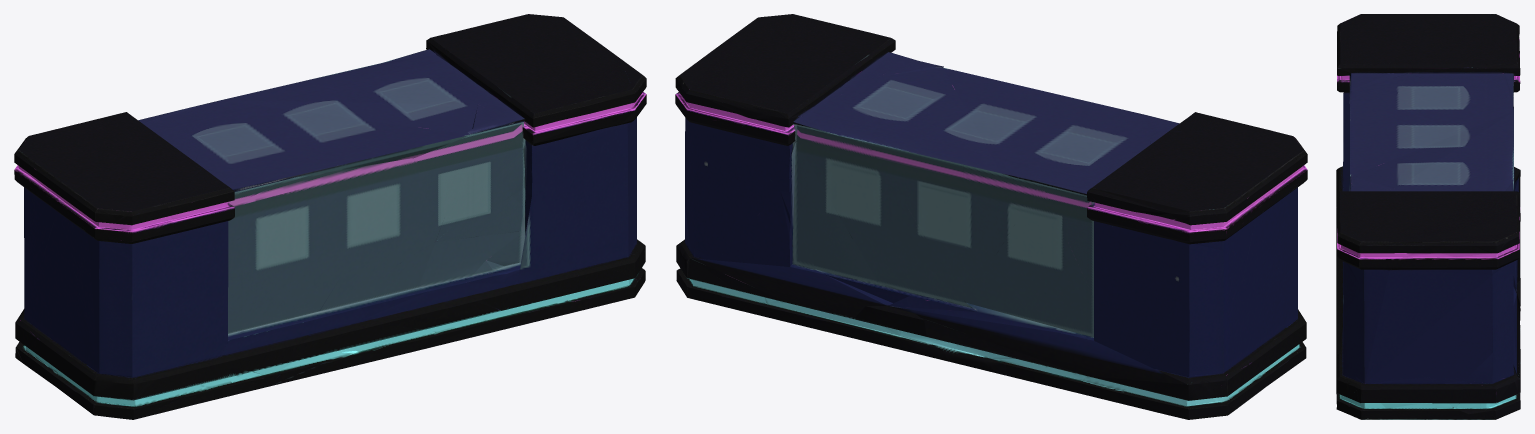
File: mostrador-tienda.glb
3 renders of one model, left to right at view 1: azimuth 30°, elevation 25°; view 2: azimuth 150°, elevation 25°; view 3: azimuth 270°, elevation 25°, orthographic. The views are drawn at different scales.
Parts seen in each view (by area): view 1: Mesh_0; view 2: Mesh_0; view 3: Mesh_0.
Boxes of the visible parts, left/top/right/bottom form: Mesh_0: left=14, top=14, right=646, bottom=419; Mesh_0: left=675, top=14, right=1307, bottom=419; Mesh_0: left=1336, top=14, right=1520, bottom=419.
Size of the model in its own units: 1.9 by 0.6828 by 0.6433.
Materials: 1 (1 with a texture image).
